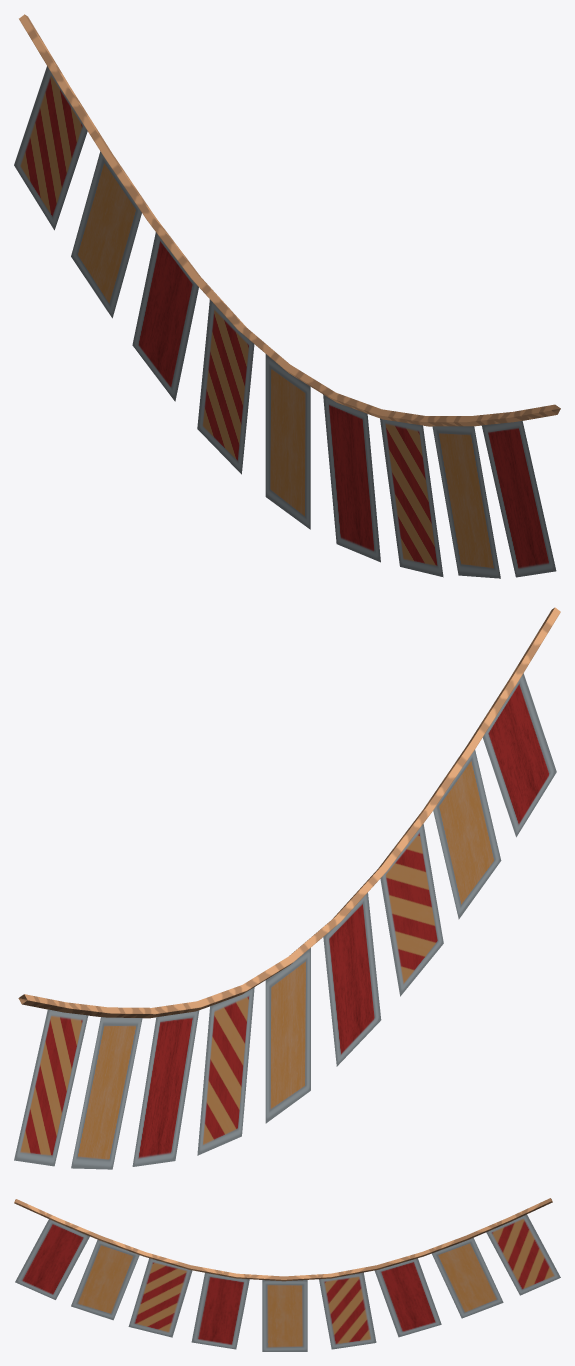
File: Small_flags_4.fbx
3 views of the same model, one above another, from view 1: azimuth 30°, elevation 25°; view 2: azimuth 150°, elevation 25°; view 3: azimuth 270°, elevation 25° (orthographic). The views are drawn at different scales.
Visible parts, largest first — view 1: pCube46; view 2: pCube46; view 3: pCube46.
Part boxes in pixels (<box>): pCube46: <box>14,14,560,578</box>; pCube46: <box>14,607,560,1169</box>; pCube46: <box>14,1198,560,1351</box>.
Size of the model in its own units: 2 by 63.36 by 204.
